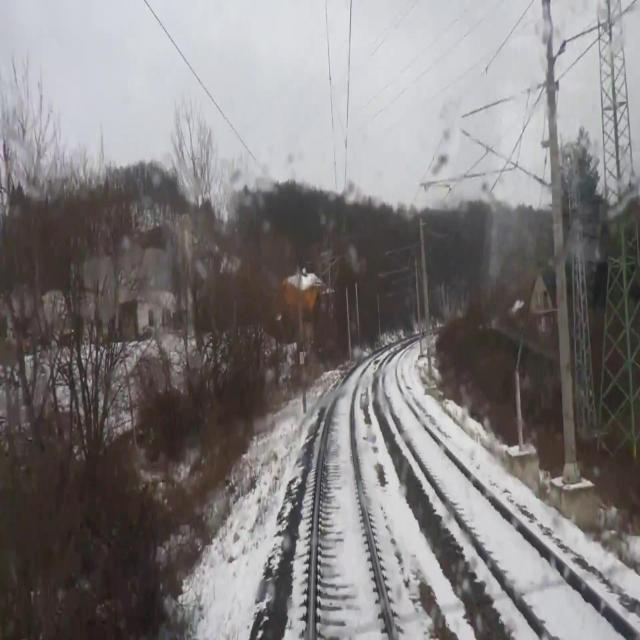rail-track: (385, 353, 638, 639), (314, 359, 392, 639)
